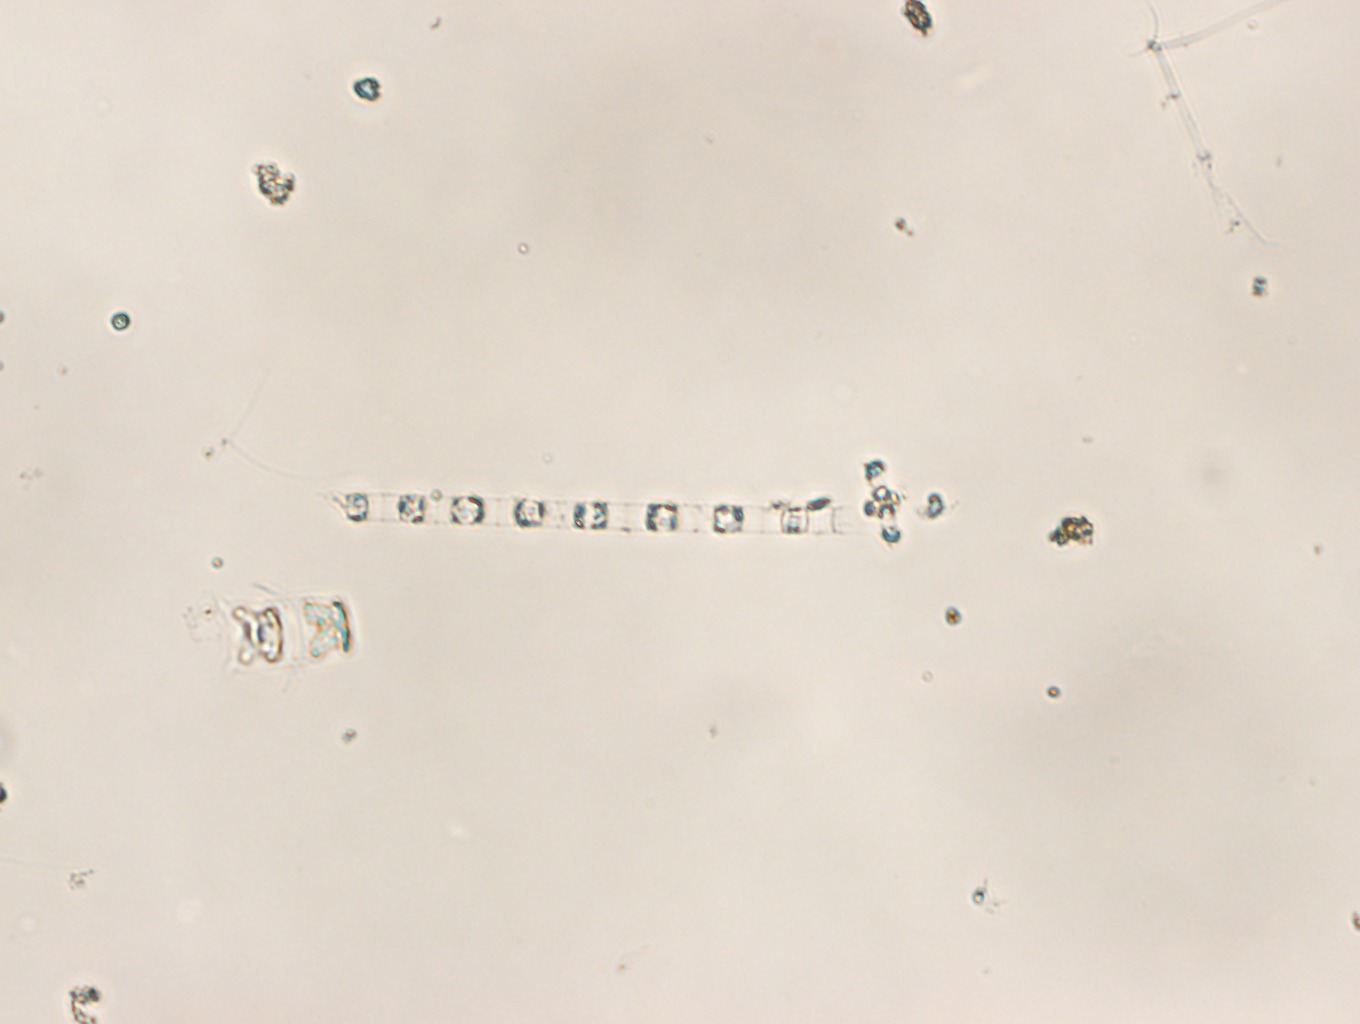chaetoceros: (217, 584, 353, 692)
skeletonema: (334, 492, 860, 537)
